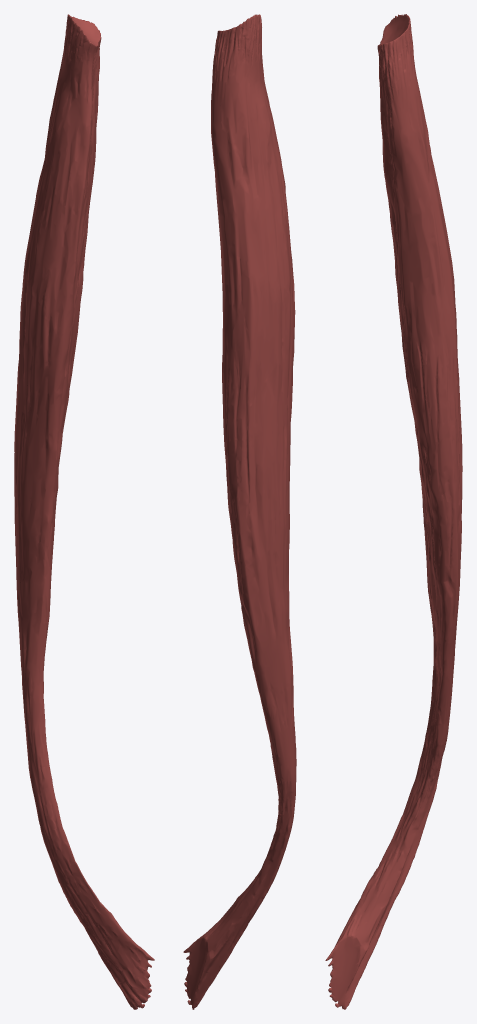
The model's file is FMA22359.glb.
3 views of the same model, side by side, from view 1: azimuth 90°, elevation 25°; view 2: azimuth 210°, elevation 25°; view 3: azimuth 270°, elevation 25° (orthographic). The views are drawn at different scales.
Parts seen in each view (by area): view 1: FMA22359; view 2: FMA22359; view 3: FMA22359.
Part boxes in pixels (x1=…): FMA22359: x1=14, y1=14, x2=154, y2=1009; FMA22359: x1=183, y1=14, x2=296, y2=1009; FMA22359: x1=325, y1=14, x2=462, y2=1009.
Bounding box in the file's own units: 0.0349 × 0.4449 × 0.0563.
